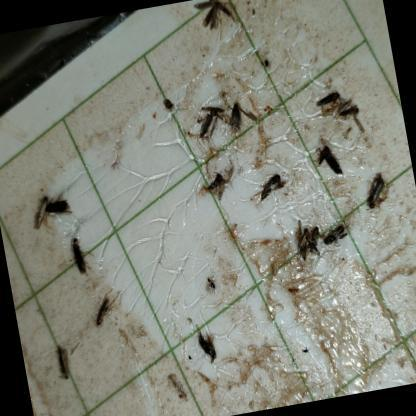prays_oleae: (186, 318, 224, 366), (82, 288, 121, 334), (43, 342, 80, 384), (360, 172, 396, 214), (245, 170, 289, 204), (192, 0, 235, 33), (66, 236, 98, 278), (312, 140, 346, 178), (194, 167, 228, 200), (187, 106, 219, 140), (223, 94, 250, 132), (25, 193, 52, 228), (44, 191, 74, 222), (336, 101, 363, 131), (290, 223, 310, 262), (304, 218, 324, 254), (322, 223, 350, 247), (312, 90, 344, 110), (202, 271, 222, 299)
